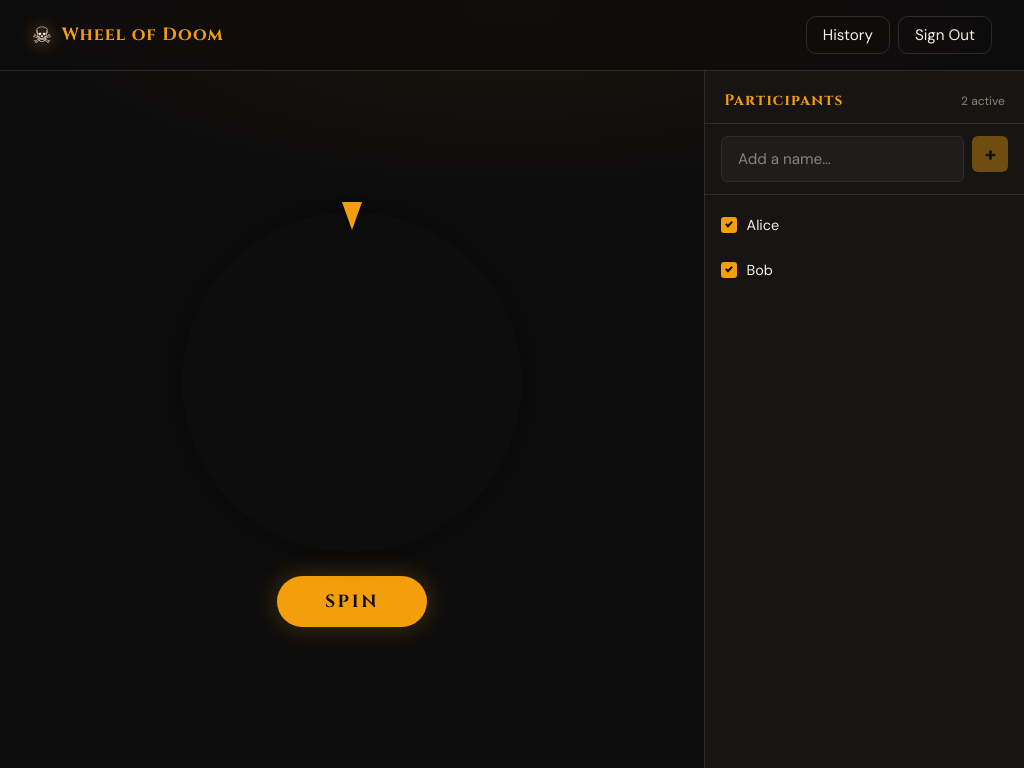
Scenario: MainPage › marks participant changes dirty and saves them
The image size is (1024, 768).
Expected: the button "SPIN" is enabled, [277,576,427,627]
Click the checkbox named "Toggle Alice" at [729, 226], box [721,218,737,234]
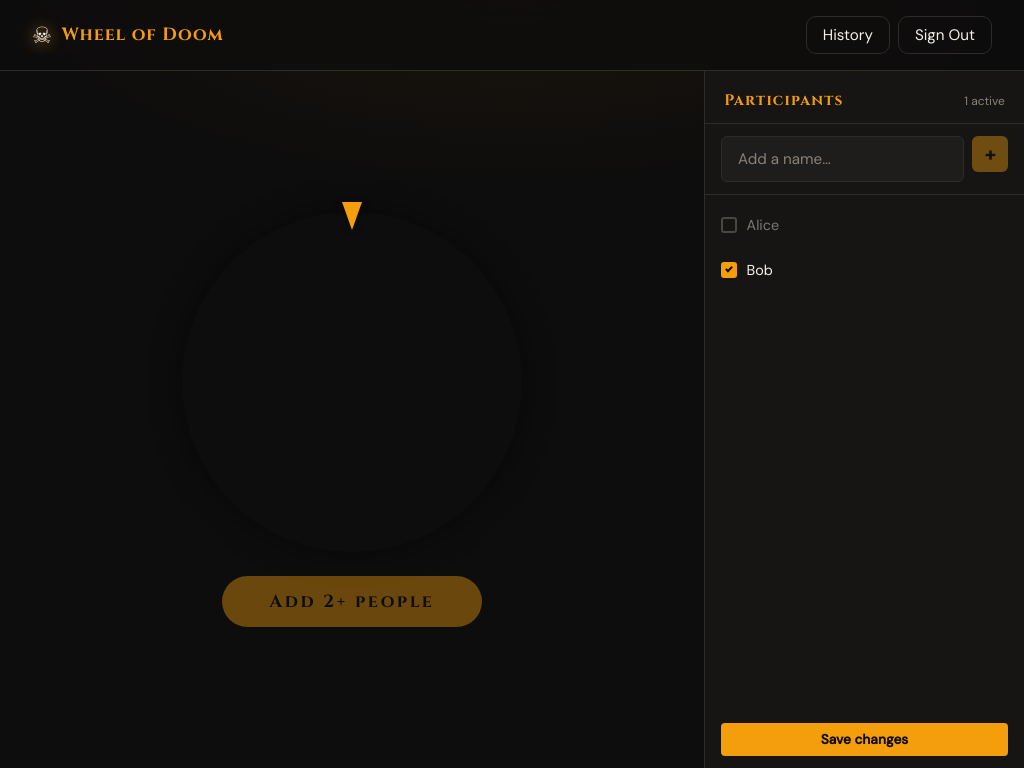
Expected: the button "Save changes" is shown
Expected: the button "Add 2+ people" is disabled, [222,576,482,627]
Click the button "Save changes" at [864, 740], box [721,723,1008,756]
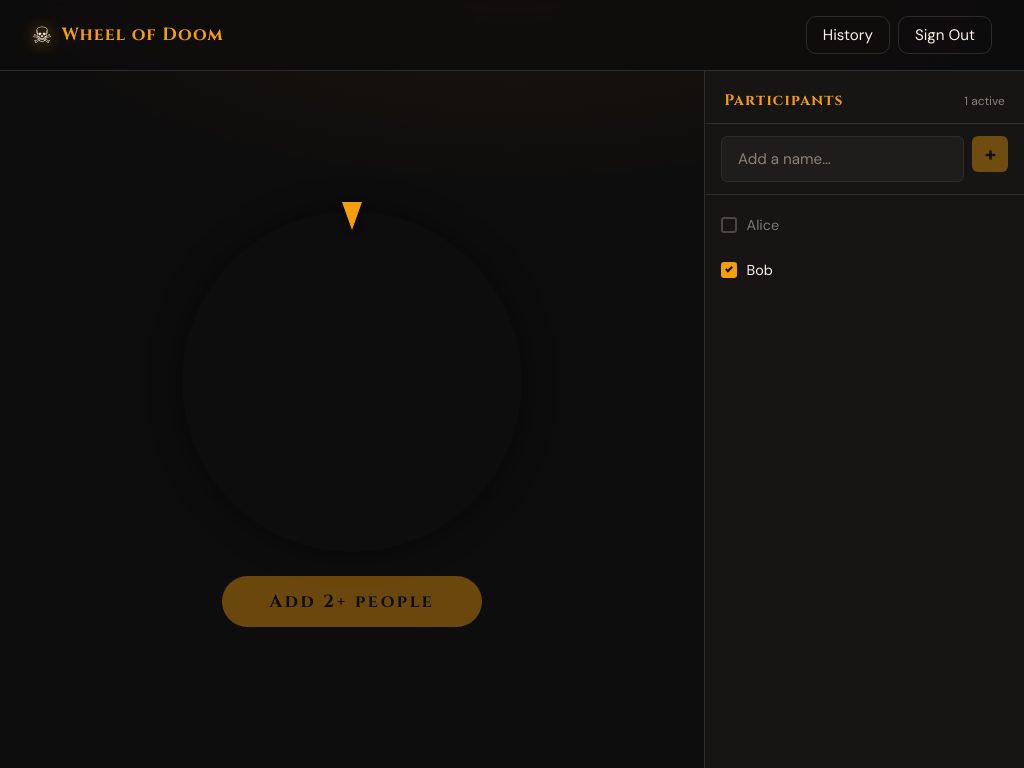
Expected: the button "Save changes" is gone
